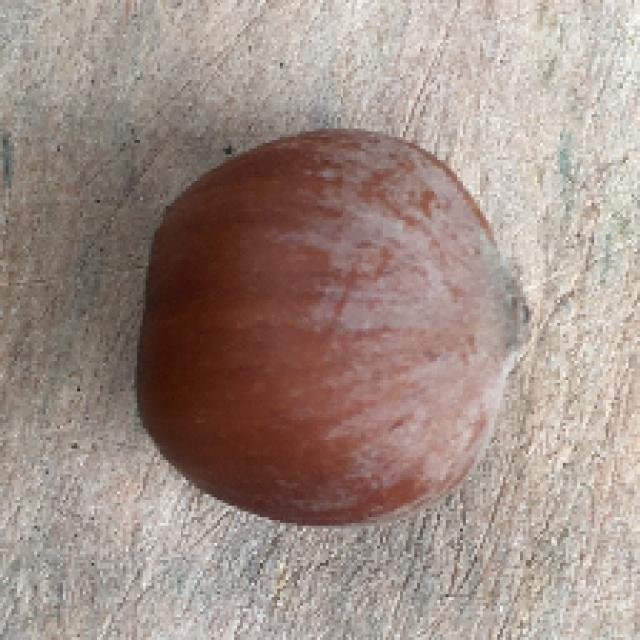qualityHazelnut: (119, 121, 540, 531)
